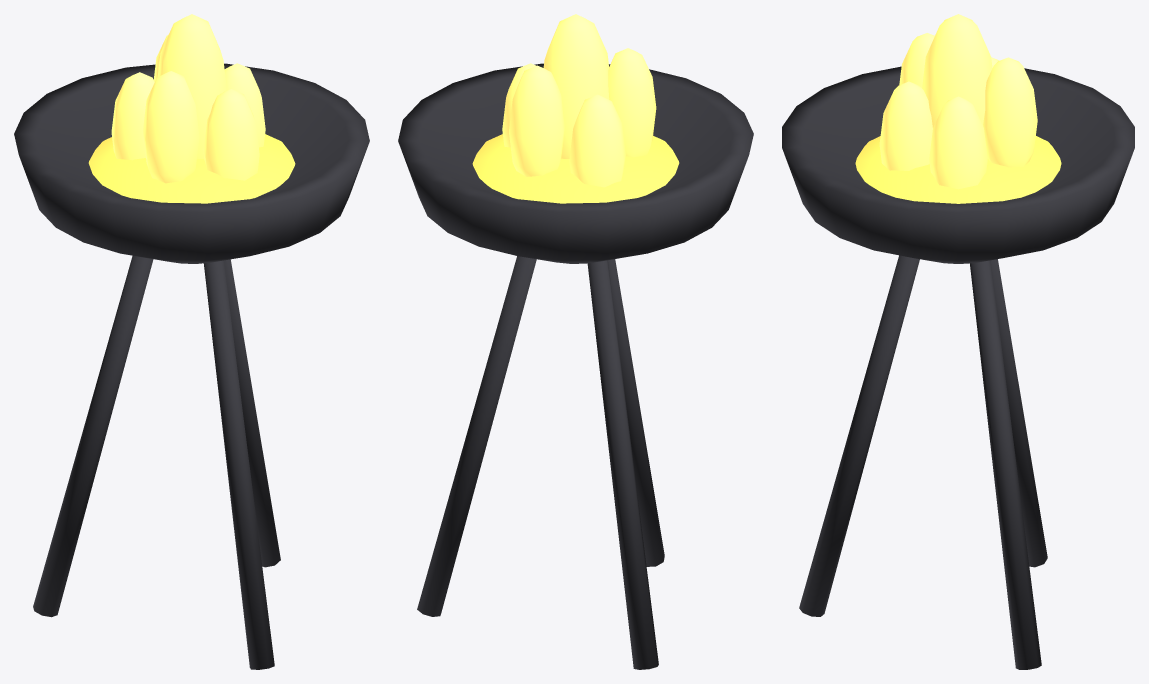
The model's file is brazier_tripod_bowl.glb.
3 views of the same model, side by side, from view 1: azimuth 30°, elevation 25°; view 2: azimuth 150°, elevation 25°; view 3: azimuth 270°, elevation 25° (orthographic).
Visible parts, largest first — view 1: GD_brazier_tripod_bowl__m0, GD_brazier_tripod_bowl__m1, GD_brazier_tripod_bowl__m2; view 2: GD_brazier_tripod_bowl__m0, GD_brazier_tripod_bowl__m1, GD_brazier_tripod_bowl__m2; view 3: GD_brazier_tripod_bowl__m0, GD_brazier_tripod_bowl__m1, GD_brazier_tripod_bowl__m2.
Part boxes in pixels (<box>): GD_brazier_tripod_bowl__m0: <box>14,63,369,669</box>; GD_brazier_tripod_bowl__m1: <box>111,14,265,183</box>; GD_brazier_tripod_bowl__m2: <box>88,134,295,203</box>; GD_brazier_tripod_bowl__m0: <box>398,63,753,669</box>; GD_brazier_tripod_bowl__m1: <box>502,14,656,187</box>; GD_brazier_tripod_bowl__m2: <box>472,134,679,203</box>; GD_brazier_tripod_bowl__m0: <box>782,66,1134,669</box>; GD_brazier_tripod_bowl__m1: <box>879,14,1037,189</box>; GD_brazier_tripod_bowl__m2: <box>855,136,1061,203</box>.
Bounding box in the file's own units: 0.68 × 1.27 × 0.6731.
